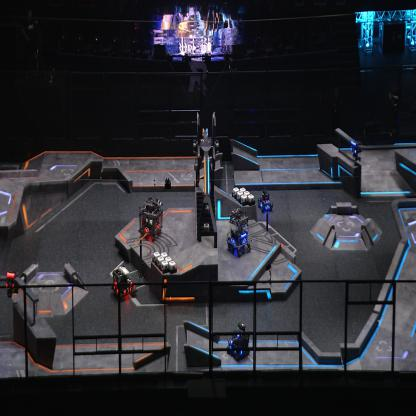car: (226, 207, 251, 256), (138, 197, 164, 242), (226, 322, 250, 360), (111, 266, 137, 301), (257, 187, 273, 214)
